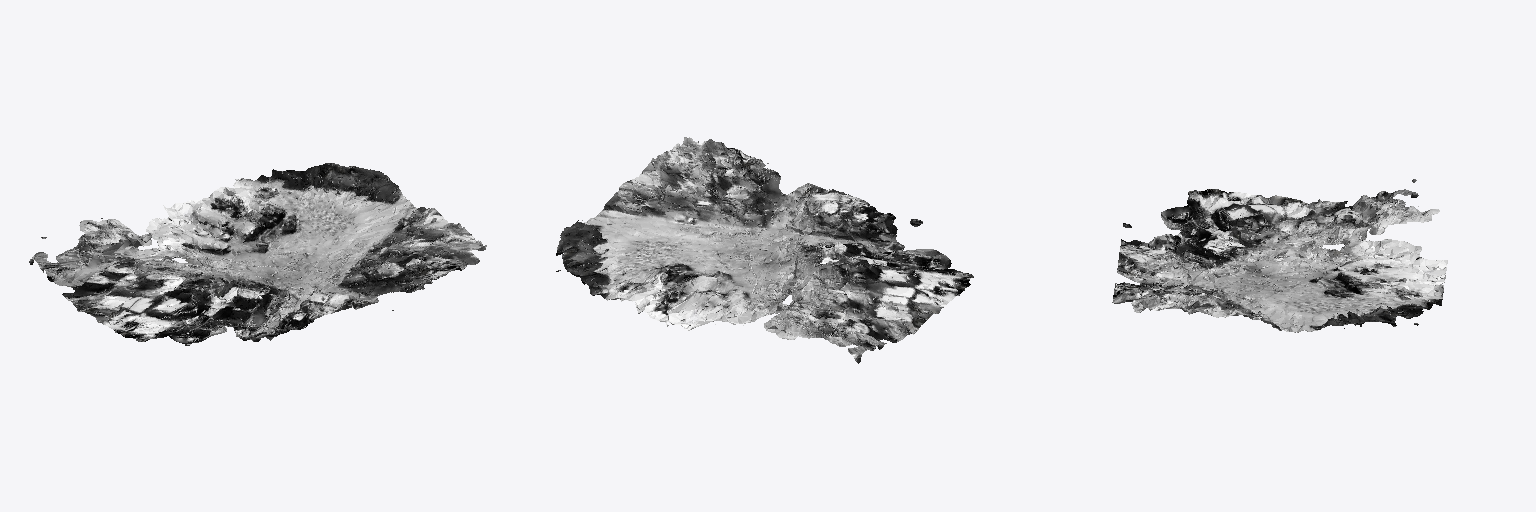
The picture shows the model from 3 angles: view 1: azimuth 30°, elevation 25°; view 2: azimuth 150°, elevation 25°; view 3: azimuth 270°, elevation 25°; orthographic projection.
Parts seen in each view (by area): view 1: collateralmurder:Mesh; view 2: collateralmurder:Mesh; view 3: collateralmurder:Mesh.
Boxes of the visible parts, x1,y1,x2,y2 form: collateralmurder:Mesh: [29, 163, 486, 345]; collateralmurder:Mesh: [556, 137, 973, 363]; collateralmurder:Mesh: [1112, 179, 1447, 332].
Bounding box in the file's own units: 224 × 35.84 × 195.
1 materials, 1 textured.